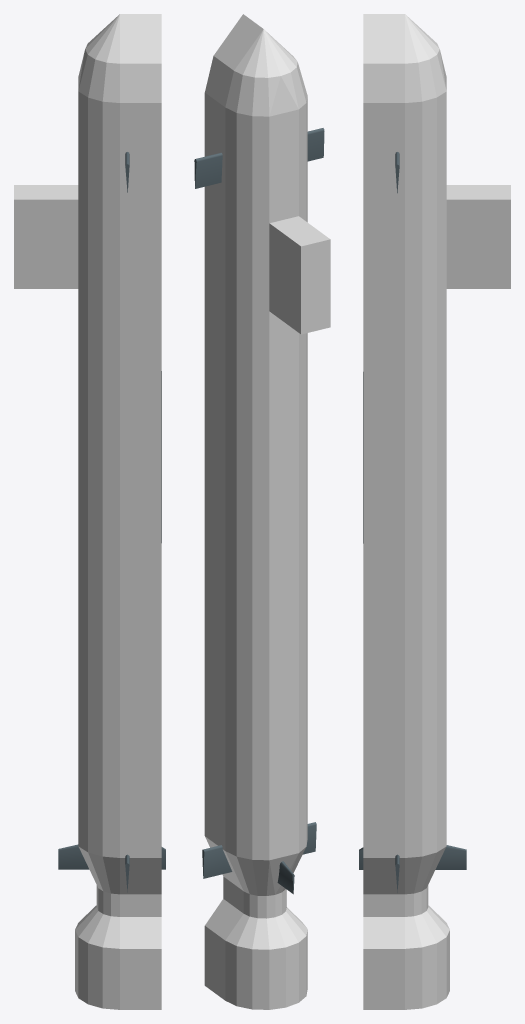
The model's file is Submarine.fbx.
3 renders of one model, left to right at view 1: azimuth 90°, elevation 25°; view 2: azimuth 210°, elevation 25°; view 3: azimuth 270°, elevation 25°, orthographic.
Parts seen in each view (by area): view 1: Subbarine_LowPoly, SubAft; view 2: Subbarine_LowPoly, SubAft, SubFore; view 3: Subbarine_LowPoly, SubAft.
Boxes of the visible parts, x1,y1,x2,y2 form: Subbarine_LowPoly: (14, 14, 161, 1009); SubAft: (58, 448, 165, 892); Subbarine_LowPoly: (204, 14, 330, 1009); SubAft: (202, 822, 316, 894); SubFore: (194, 128, 324, 188); Subbarine_LowPoly: (363, 14, 510, 1009); SubAft: (359, 448, 466, 892).
Size of the model in its own units: 2118 by 15121 by 2129.
